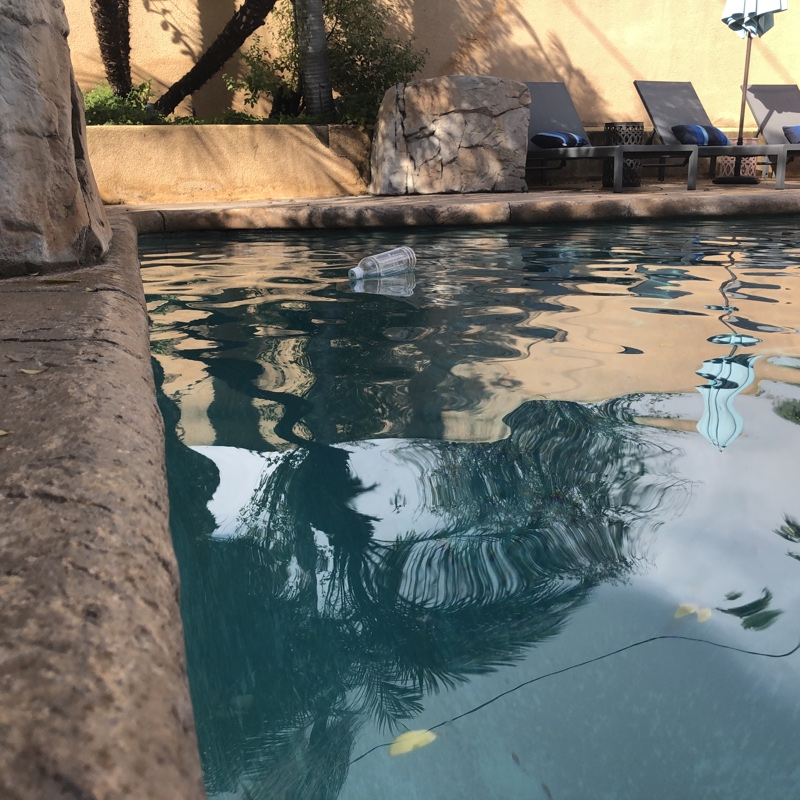Plastic Bottle: (347, 244, 419, 281)
